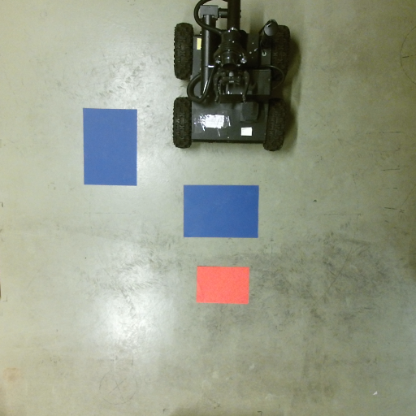Blue: (80, 108, 138, 187), (182, 186, 260, 239)
Jaguar: (170, 0, 289, 154)
Red: (193, 266, 251, 305)
